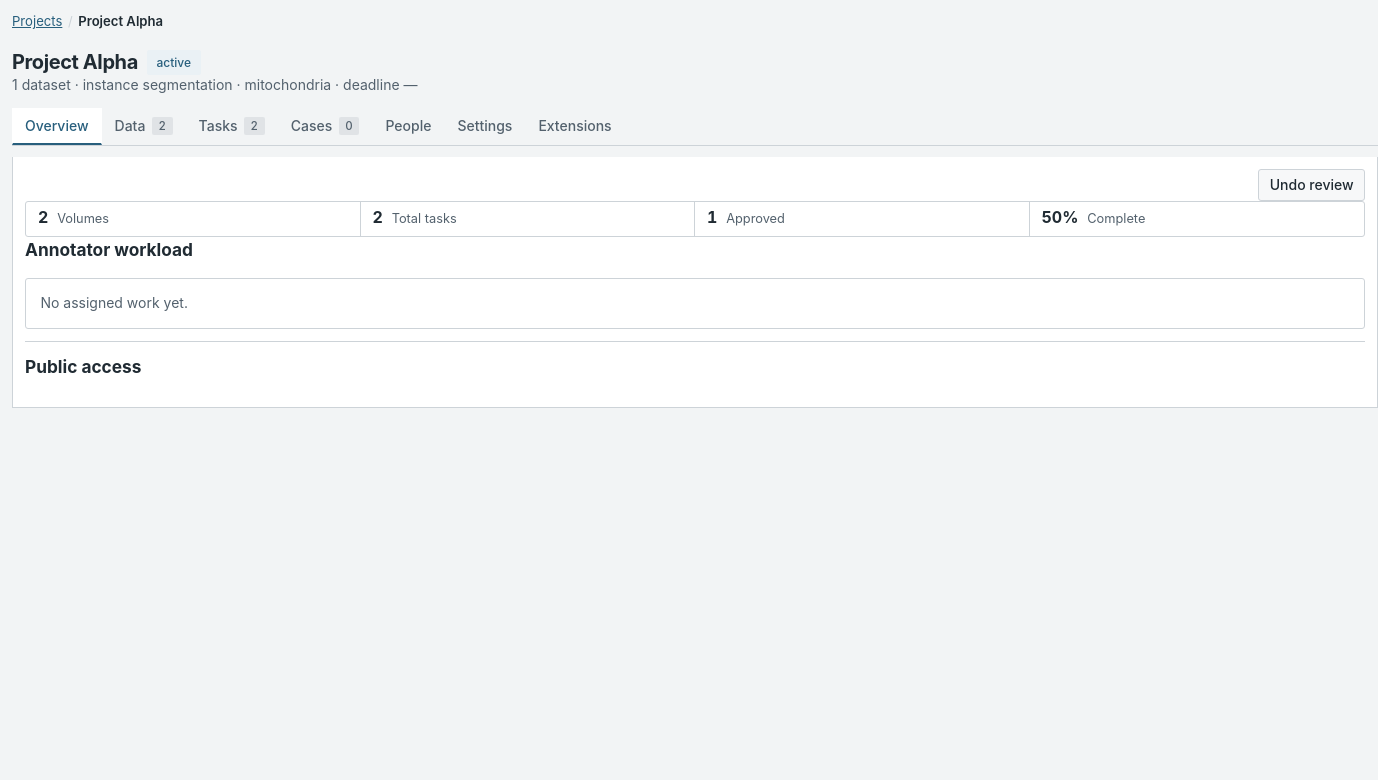
Test: ProjectDetailPage tabs › opens Measurements through the final Extensions tab
Step 1. Click the tab "Extensions" → (575, 127), box [525,108,625,145]
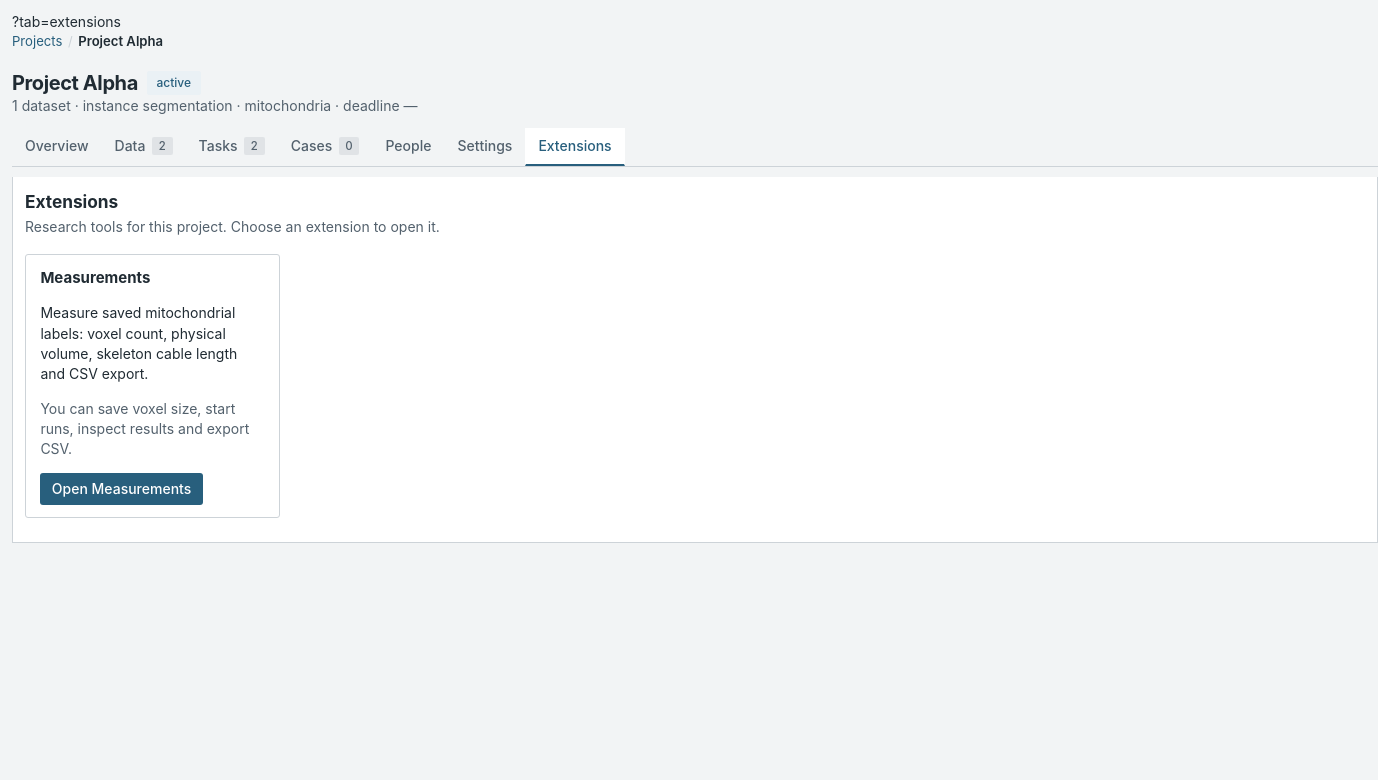
Expected: the text "No volumes registered in this project." is not shown
Step 2. Click the button "Open Measurements" → (122, 489), box [40,473,203,505]
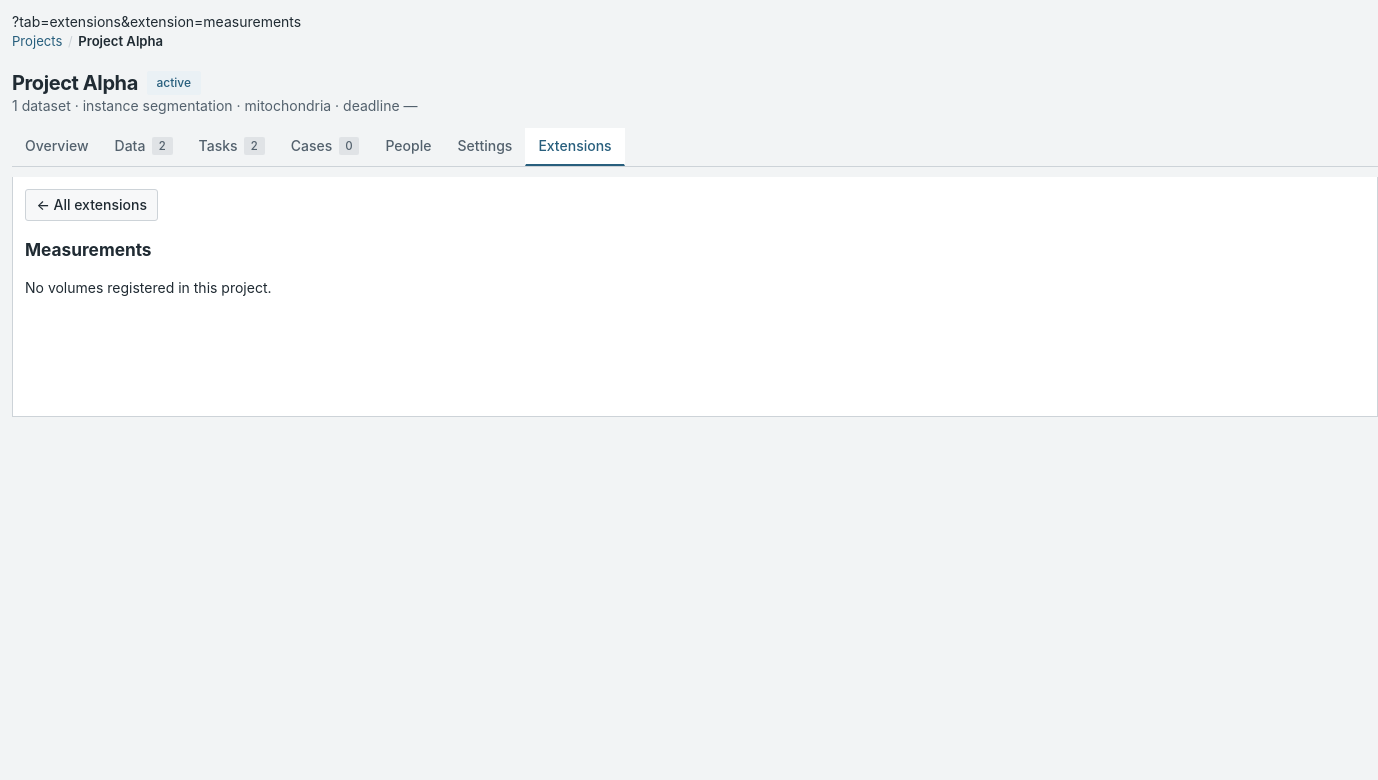
Expected: the text "No volumes registered in this project." is shown, [25,279,272,296]
